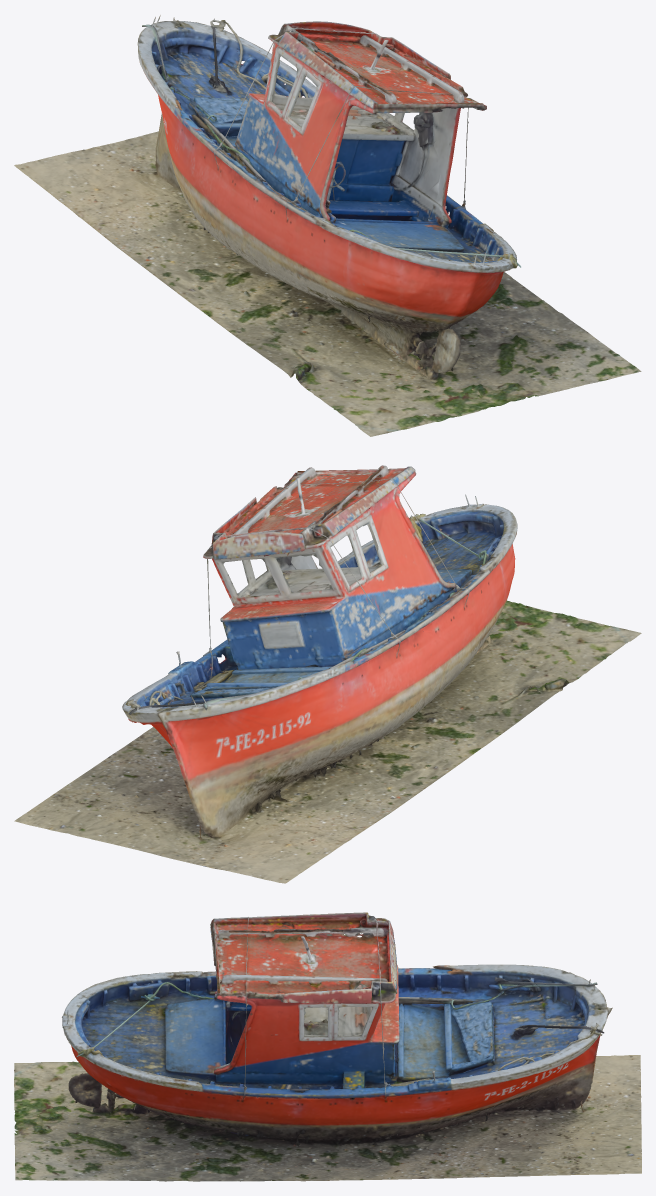
The model's file is boat_josefa.glb.
3 views of the same model, one above another, from view 1: azimuth 30°, elevation 25°; view 2: azimuth 150°, elevation 25°; view 3: azimuth 270°, elevation 25° (orthographic). The views are drawn at different scales.
Visible parts, largest first — view 1: Object_2; view 2: Object_2; view 3: Object_2.
Part boxes in pixels (x1,y1,x2,y2): Object_2: (14, 15, 641, 436); Object_2: (14, 465, 641, 883); Object_2: (14, 912, 641, 1181).
Bounding box in the file's own units: 3.07 × 2.53 × 6.99.
1 material, 1 textured.
